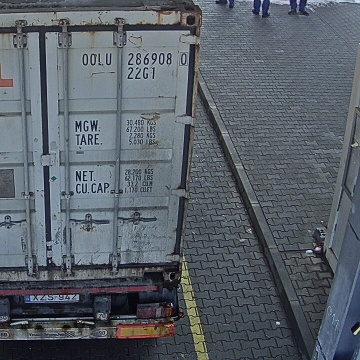serial_id: (82, 53, 187, 66)
